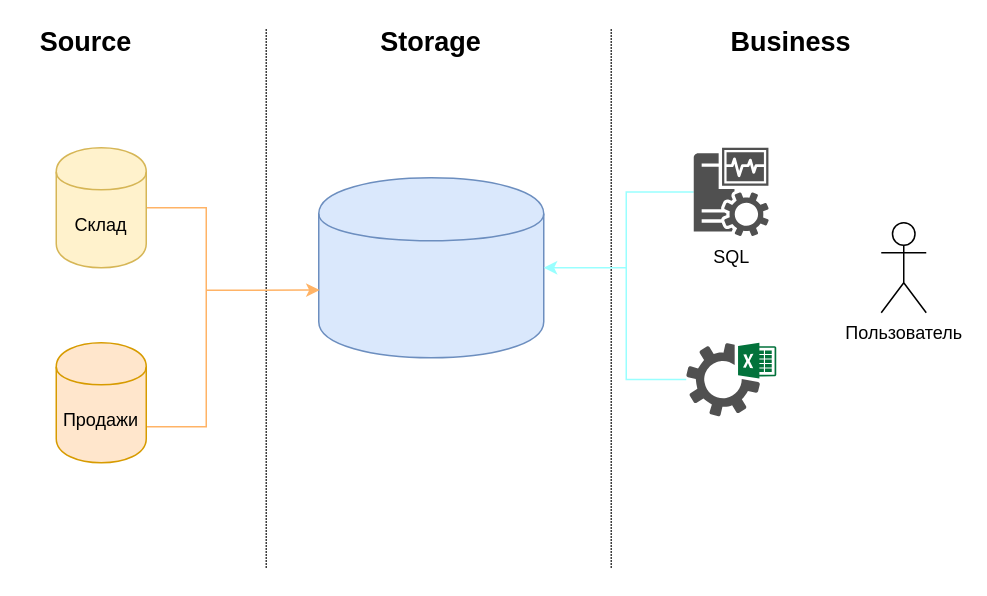
Some shapes in this 987 by 596 pixel diagram are drawn without their labels. The box of each missing label's shape, as (x1, y1, x2, y2) in pixels:
Excel: (686, 342, 776, 416)
Хранилище данных: (317, 176, 544, 358)
